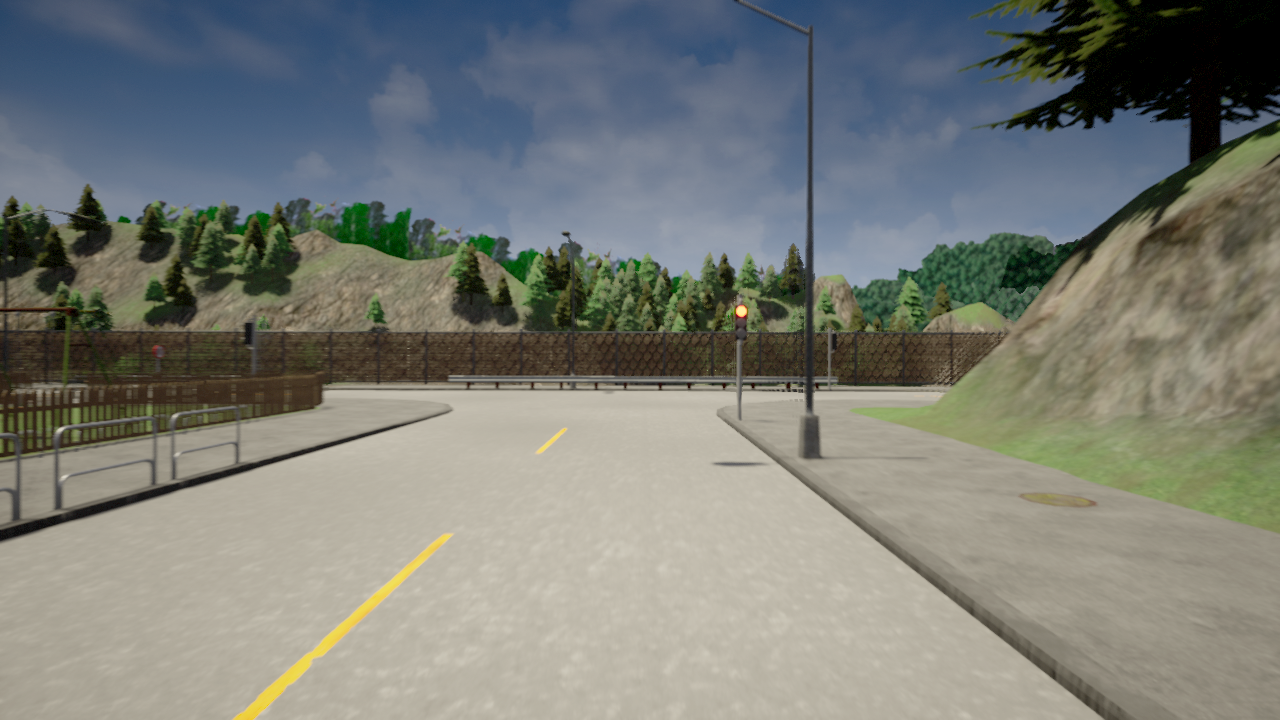red: (733, 305, 749, 340)
